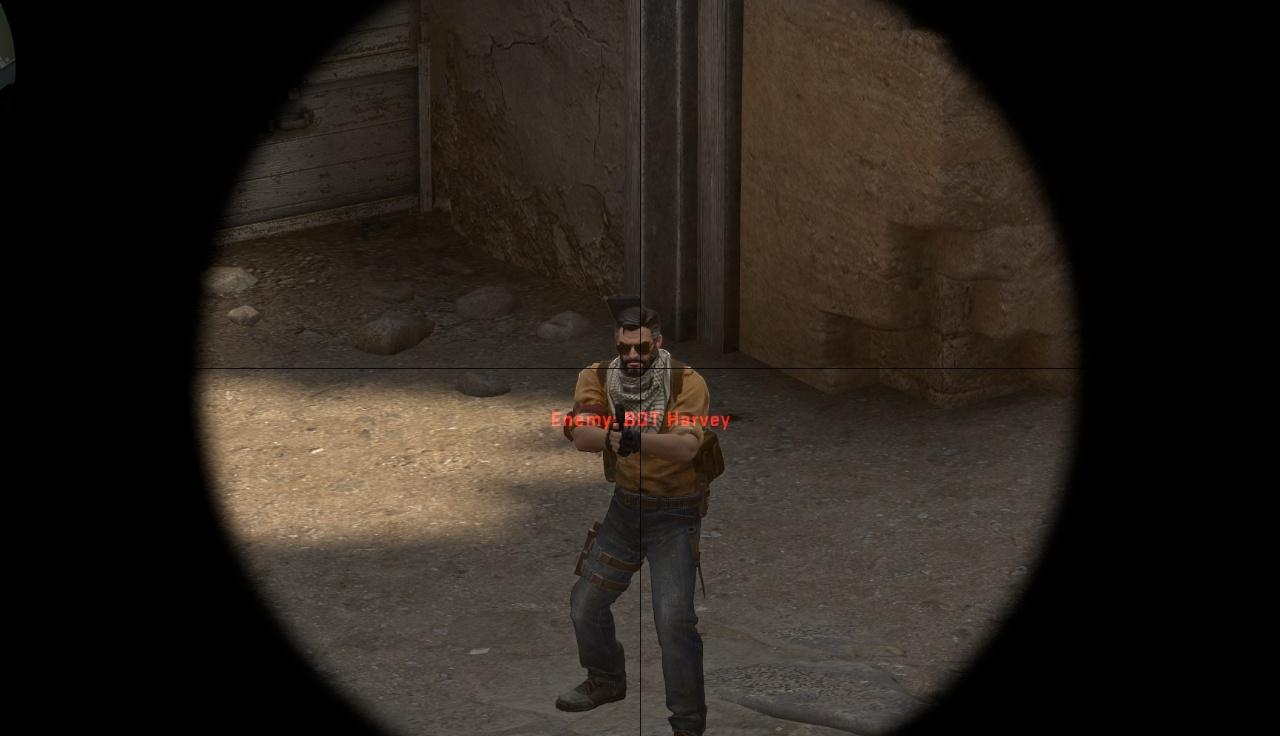tt: (559, 306, 723, 736)
tthead: (615, 307, 660, 375)
